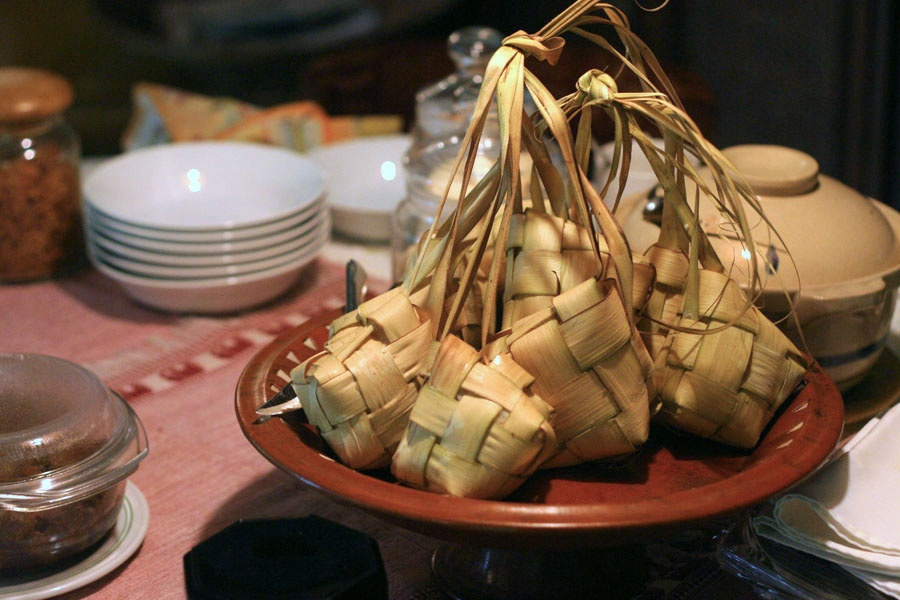ketupat: (388, 333, 559, 507), (650, 269, 809, 452), (298, 287, 426, 467)
